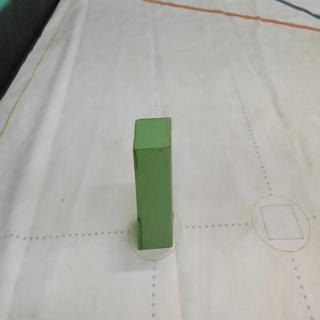greenbox: (131, 115, 176, 252)
